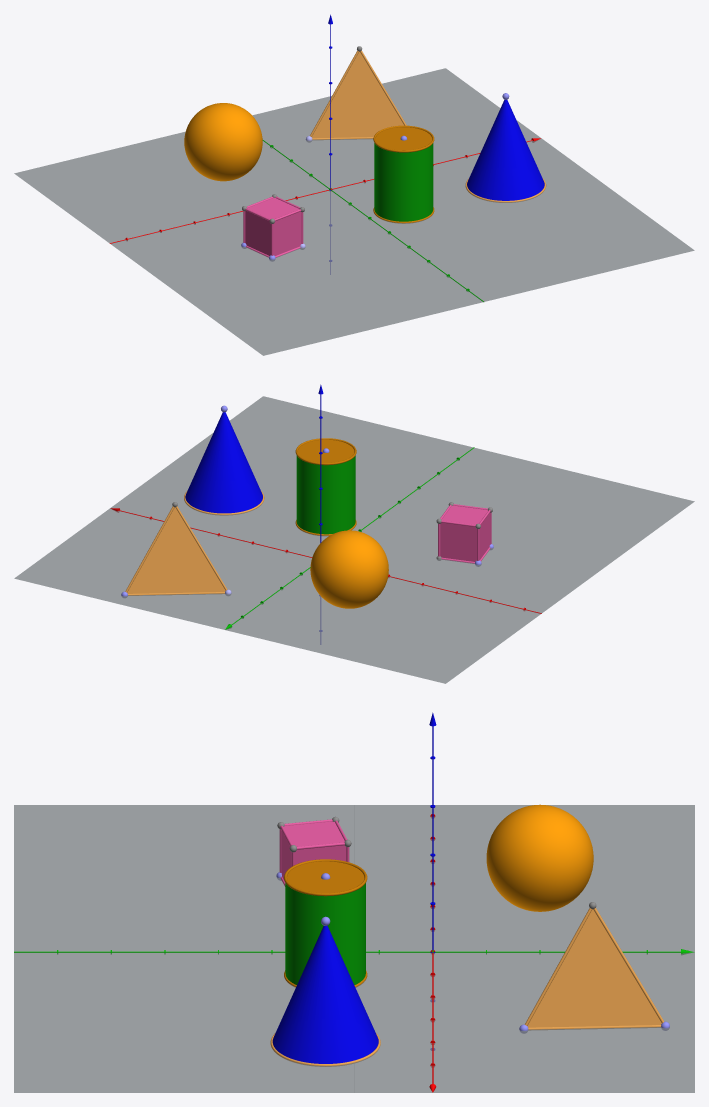
File: asset.gltf
The picture shows the model from 3 angles, top to bottom: view 1: azimuth 30°, elevation 25°; view 2: azimuth 150°, elevation 25°; view 3: azimuth 270°, elevation 25°; orthographic projection. The views are drawn at different scales.
Parts seen in each view (by area): view 1: M_128_128_128_127-material (×2), M_255_85_0_153-material (×2), M_0_0_255_140-material (×2), M_0_100_0_102-material (×2), M_219_97_20_102-material, M_216_27_96_102-material (×3), M_153_51_0_102-material; view 2: M_128_128_128_127-material (×2), M_255_85_0_153-material (×2), M_0_0_255_140-material (×2), M_0_100_0_102-material (×2), M_219_97_20_102-material, M_216_27_96_102-material (×2), M_153_51_0_102-material, M_255_0_0_255-material; view 3: M_128_128_128_127-material (×2), M_255_85_0_153-material (×2), M_0_0_255_140-material (×2), M_219_97_20_102-material, M_0_100_0_102-material (×2), M_153_51_0_102-material, M_216_27_96_102-material (×2), M_0_127_0_255-material, M_153_51_0_255-material.
Boxes of the visible parts, x1,y1,x2,y2 form: M_128_128_128_127-material (×2): [14, 68, 694, 355]; M_255_85_0_153-material (×2): [184, 103, 262, 181]; M_0_0_255_140-material (×2): [467, 99, 544, 200]; M_0_100_0_102-material (×2): [374, 143, 433, 221]; M_219_97_20_102-material: [312, 51, 403, 138]; M_216_27_96_102-material (×3): [245, 198, 301, 255]; M_153_51_0_102-material: [375, 127, 431, 150]; M_128_128_128_127-material (×2): [14, 396, 694, 683]; M_255_85_0_153-material (×2): [310, 530, 388, 608]; M_0_0_255_140-material (×2): [185, 412, 262, 513]; M_0_100_0_102-material (×2): [296, 455, 355, 534]; M_219_97_20_102-material: [127, 507, 225, 593]; M_216_27_96_102-material (×2): [440, 505, 487, 561]; M_153_51_0_102-material: [298, 439, 354, 462]; M_255_0_0_255-material: [110, 508, 541, 613]; M_128_128_128_127-material (×2): [14, 805, 694, 1092]; M_255_85_0_153-material (×2): [486, 804, 593, 911]; M_0_0_255_140-material (×2): [272, 925, 378, 1063]; M_219_97_20_102-material: [527, 909, 661, 1027]; M_0_100_0_102-material (×2): [285, 883, 365, 984]; M_153_51_0_102-material: [287, 861, 364, 893]; M_216_27_96_102-material (×2): [283, 821, 346, 864]; M_0_127_0_255-material: [14, 949, 694, 954]; M_153_51_0_255-material: [284, 859, 367, 896].
Bounding box in the file's own units: 25.41 × 14.66 × 25.41.
